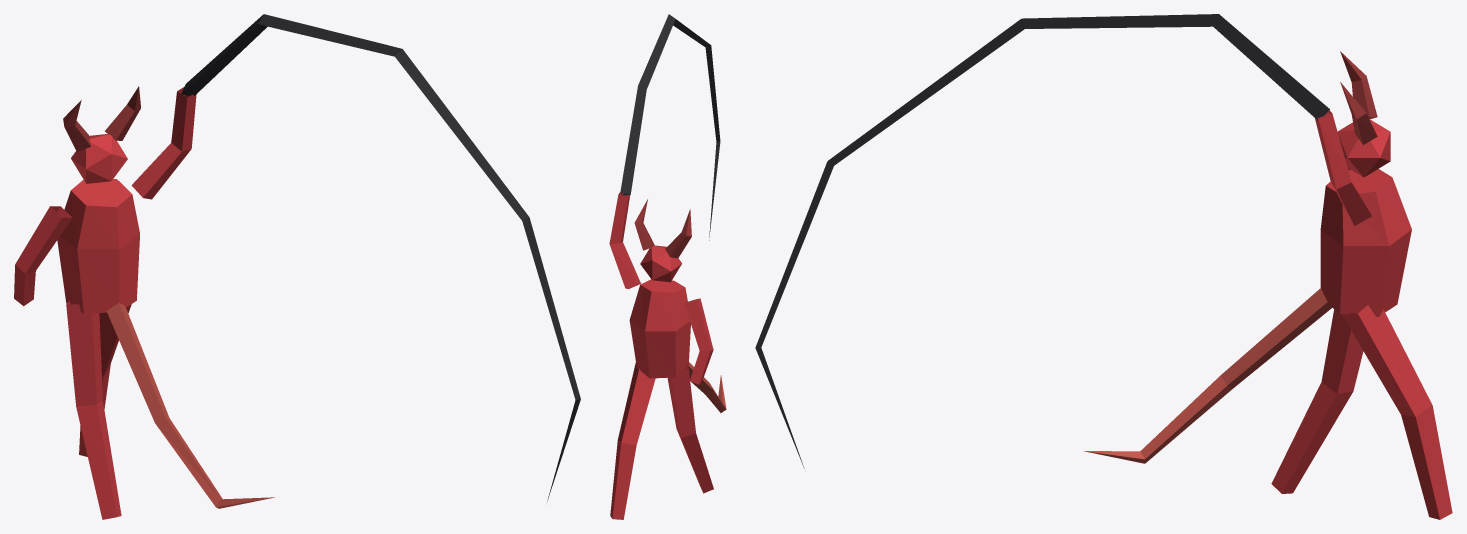
Rendered from Circle8Piece_D1Whipper.obj.
The picture shows the model from 3 angles, left to right: view 1: azimuth 30°, elevation 25°; view 2: azimuth 150°, elevation 25°; view 3: azimuth 270°, elevation 25°; orthographic projection. The views are drawn at different scales.
Parts seen in each view (by area): view 1: Circle8Piece_D1Whipper; view 2: Circle8Piece_D1Whipper; view 3: Circle8Piece_D1Whipper.
Part boxes in pixels (x1,y1,x2,y2): Circle8Piece_D1Whipper: (14, 14, 580, 519); Circle8Piece_D1Whipper: (609, 14, 726, 519); Circle8Piece_D1Whipper: (755, 14, 1452, 519).
Bounding box in the file's own units: 1.46 × 2.6 × 2.9.
Materials: 1 (1 with a texture image).
